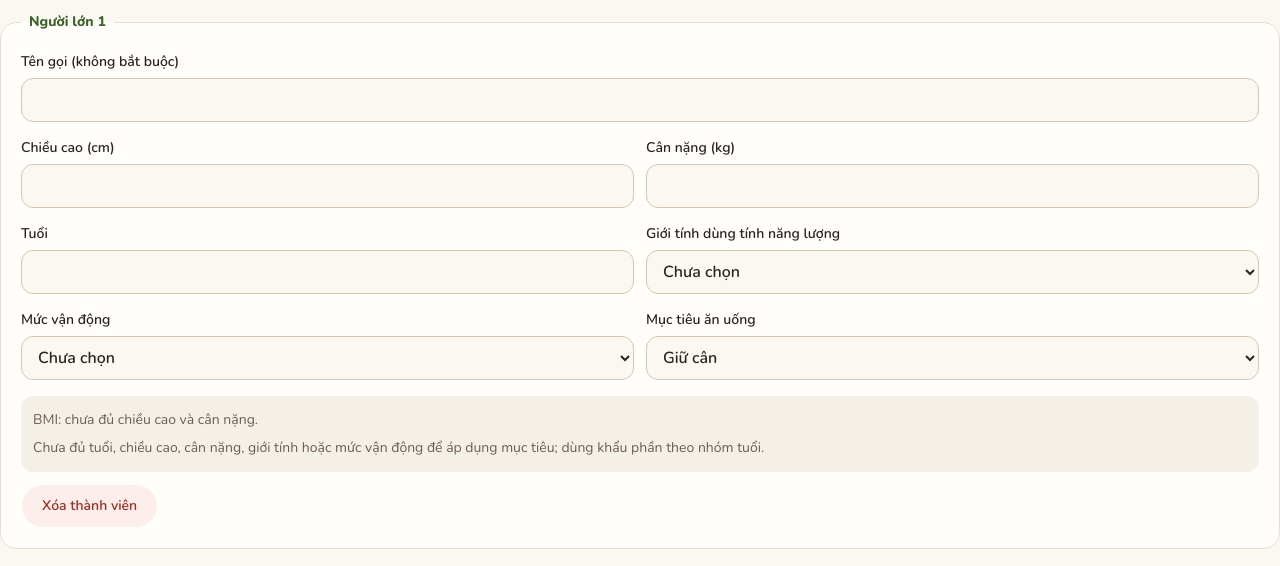
it: BMI follows comma decimals and incomplete inputs do not apply a goal
The width and height of the screenshot is (1280, 566).
In the field labelled "Chiều cao (cm)": coordinates (328, 186) [21, 164, 634, 208], type "170"
In the field labelled "Cân nặng (kg)": coordinates (952, 186) [646, 164, 1259, 208], type "65,00"
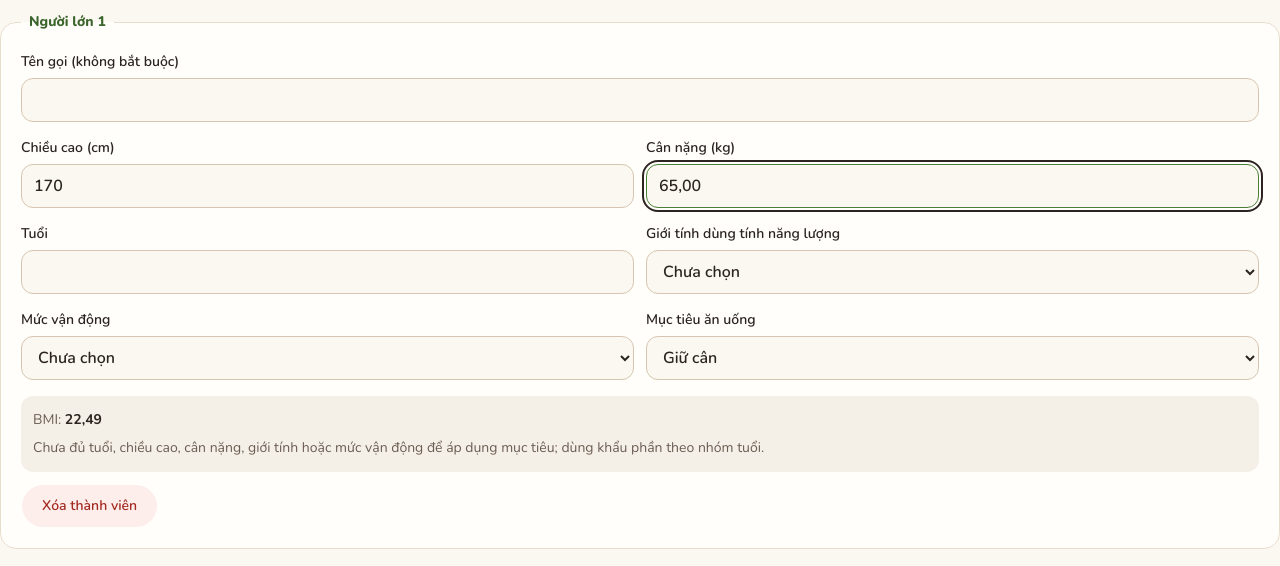
Expected: the text "Chưa đủ tuổi" is shown, [33, 438, 764, 457]
Expected: the text "22,49" is shown, [65, 410, 102, 429]
In the field labelled "Tuổi": coordinates (328, 272) [21, 250, 634, 294], type "30"
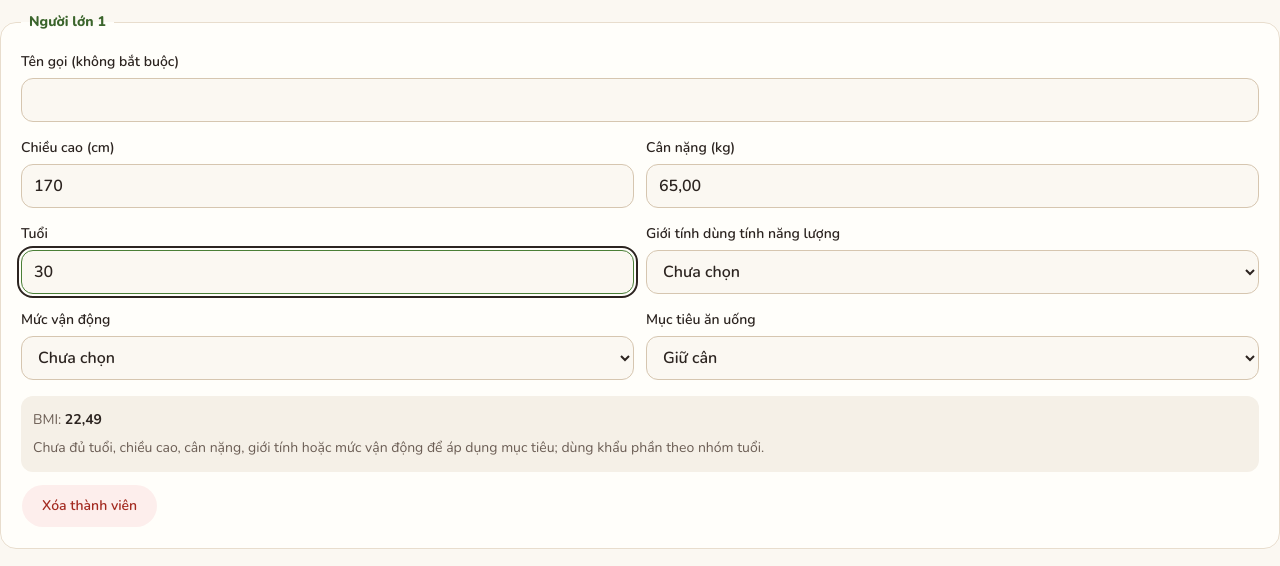
Select "Nam" in the dropdown labelled "Giới tính dùng tính năng lượng": coordinates (952, 272) [646, 250, 1259, 294]
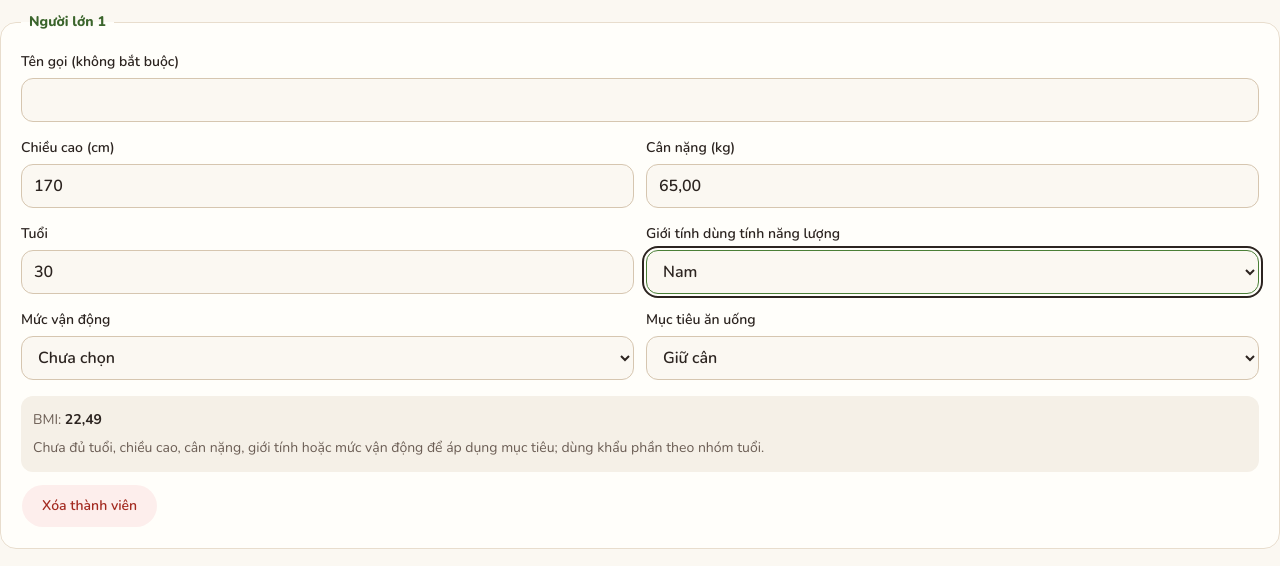
Select "Nhẹ (1–3 buổi/tuần)" in the dropdown labelled "Mức vận động": coordinates (328, 358) [21, 336, 634, 380]
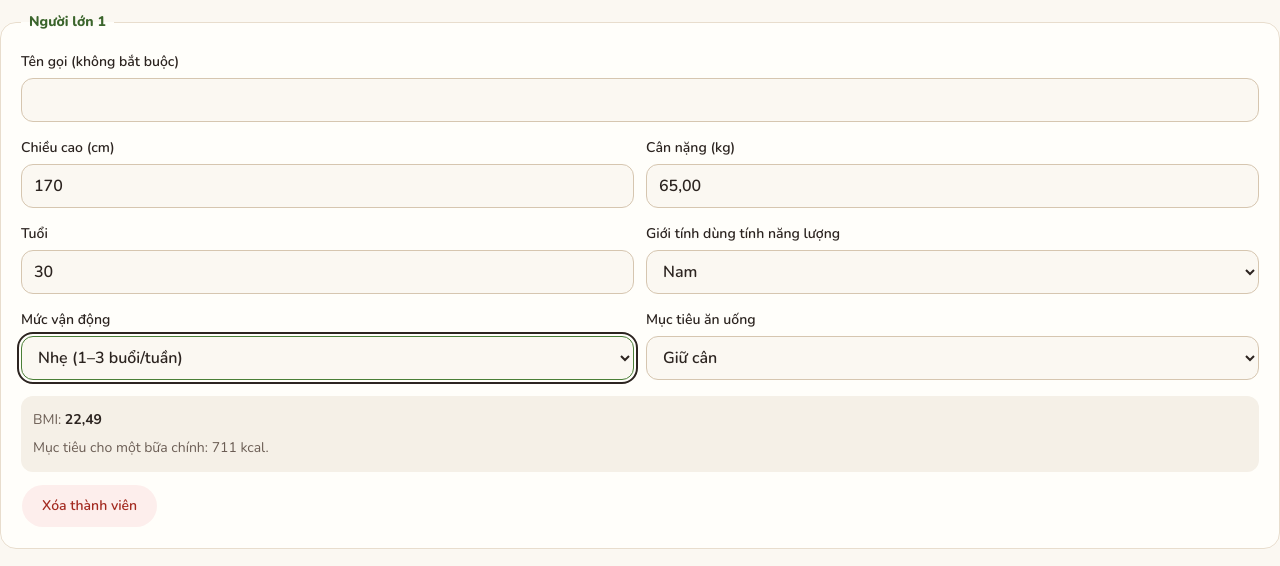
Expected: the text "Mục tiêu cho một bữa chính: 711 kcal." is shown, [33, 438, 269, 457]
Select "Giảm cân" in the dropdown labelled "Mục tiêu ăn uống": coordinates (952, 358) [646, 336, 1259, 380]
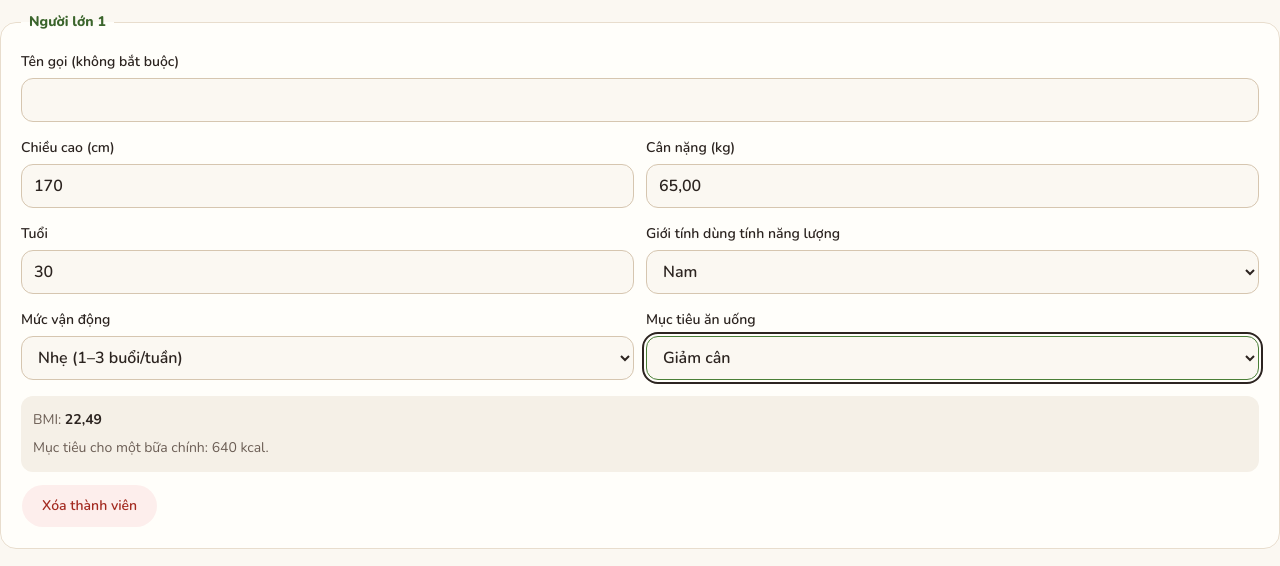
Expected: the text "Mục tiêu cho một bữa chính: 640 kcal." is shown, [33, 438, 269, 457]
Replace the text in the field labelled "Cân nặng (kg)" with "50": coordinates (952, 186) [646, 164, 1259, 208]
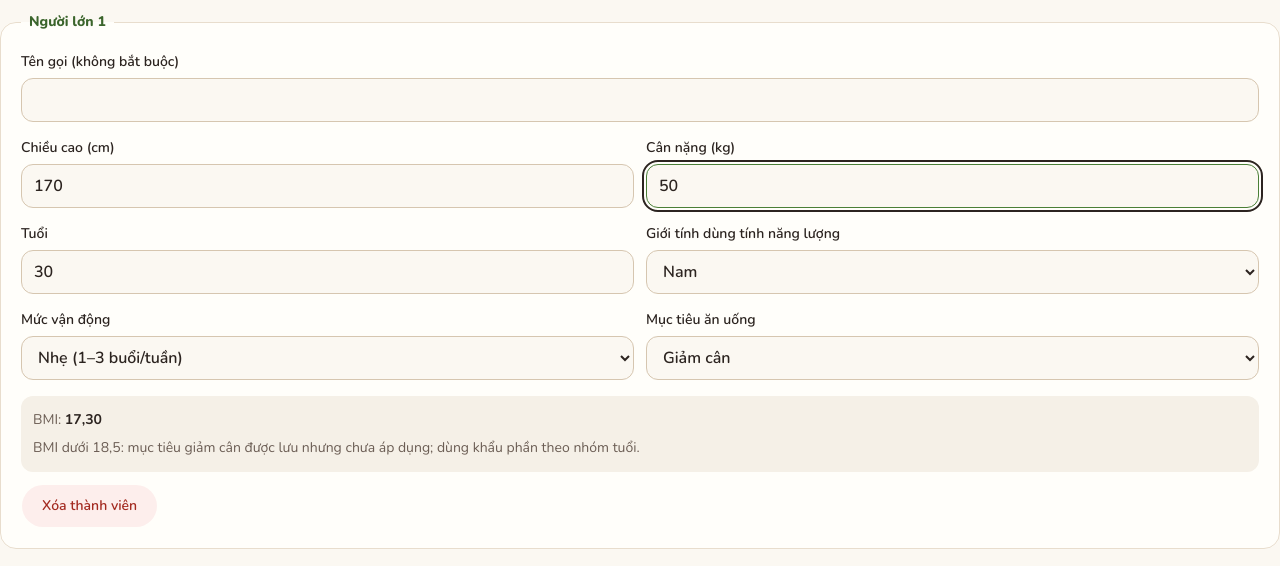
Expected: the text "Mục tiêu cho một bữa chính:" is not shown
Expected: the text "BMI dưới 18,5" is shown, [33, 438, 640, 457]
